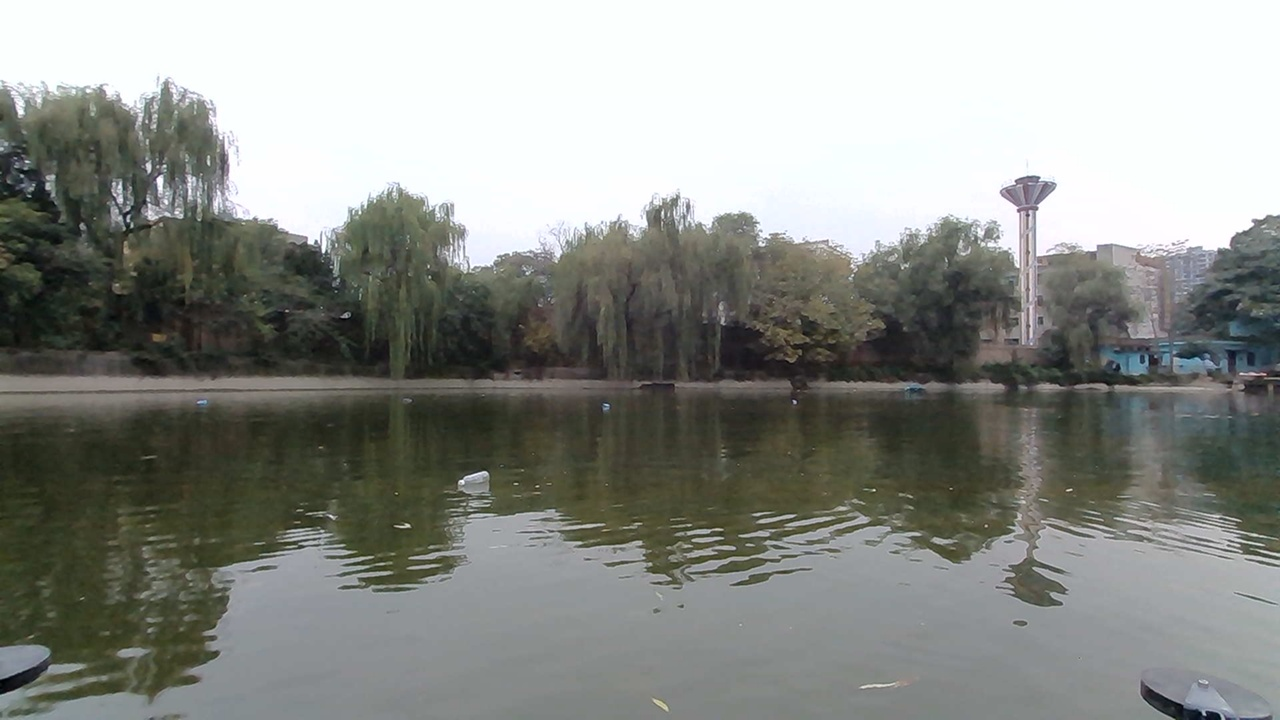bottle: (446, 467, 505, 496), (592, 398, 623, 416)
